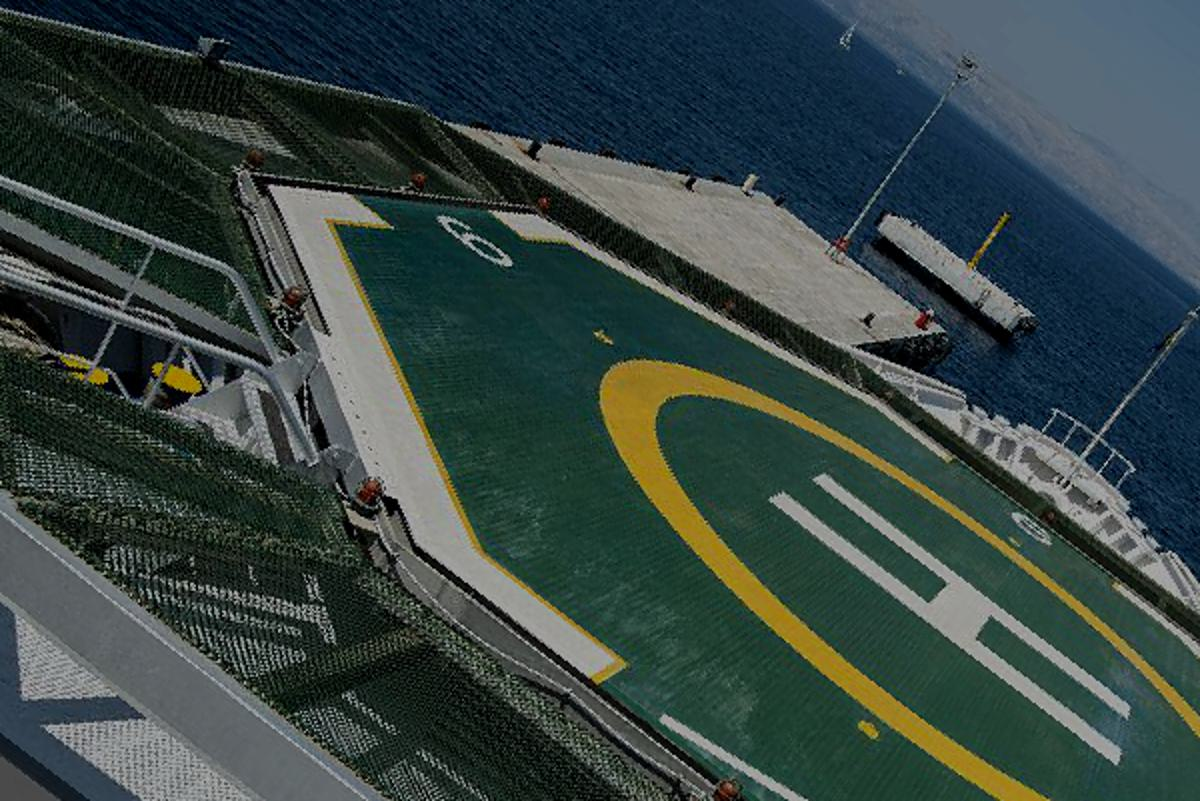Apron: (589, 349, 1200, 800)
